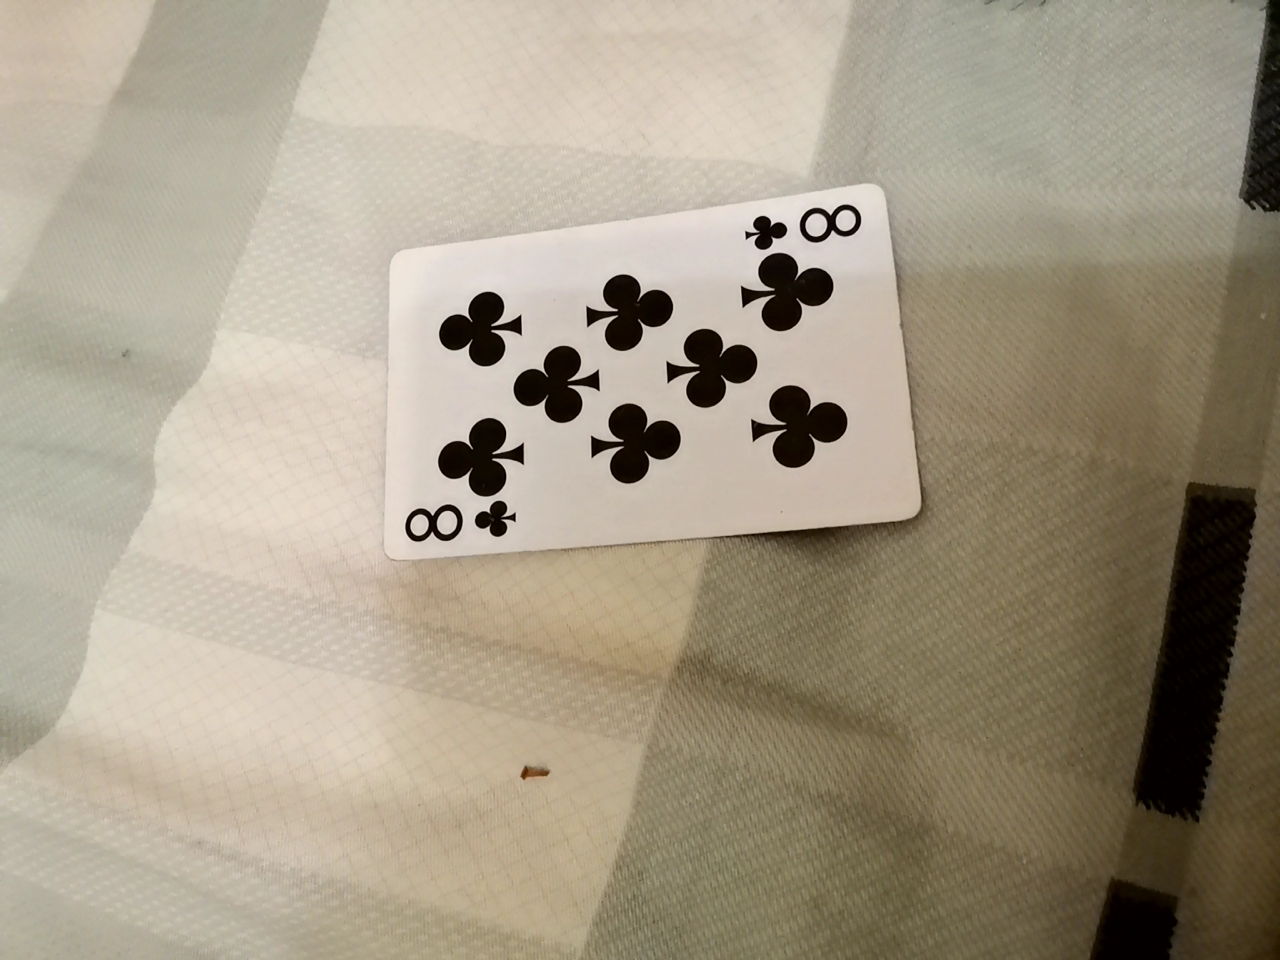mh 8: (362, 176, 923, 550)
